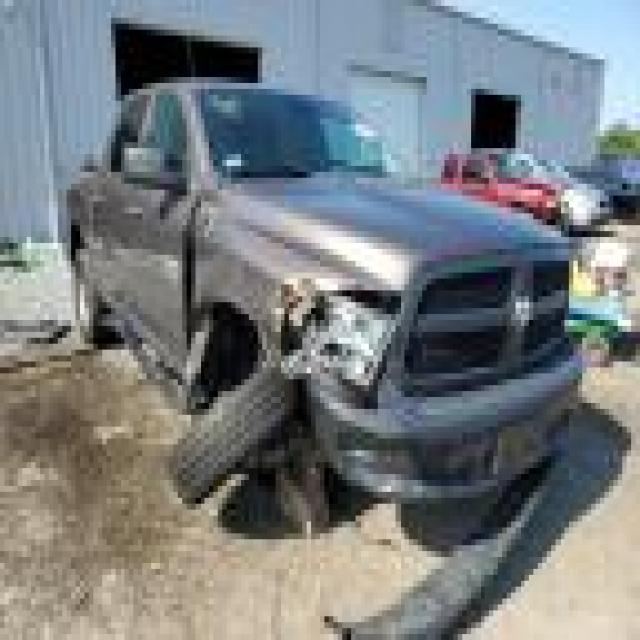moderate: (173, 245, 548, 458)
